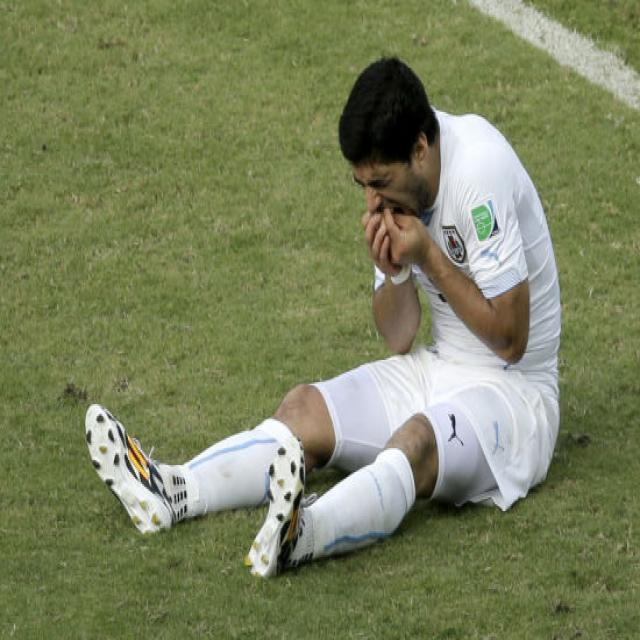nomask: (349, 145, 424, 211)
